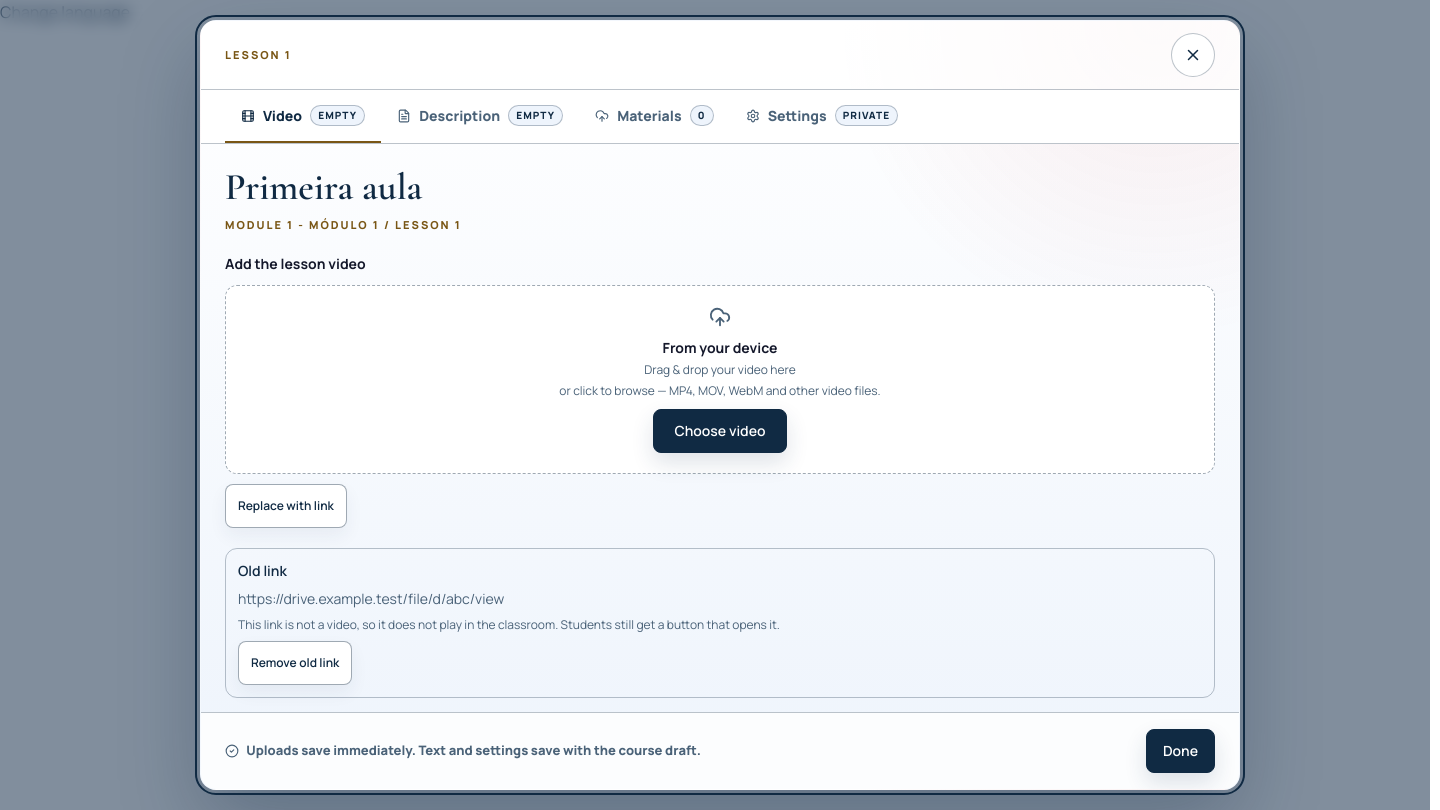
Test: LessonContentModal — um video por aula › link antigo que nao e video aparece so leitura como Old link
Check: the element "Old link" shows "https://drive.example.test/file/d/abc/view", box x1=238 y1=589 x2=504 y2=608
Click the button "Replace with link" at {"x": 286, "y": 506}, box x1=225 y1=484 x2=347 y2=528
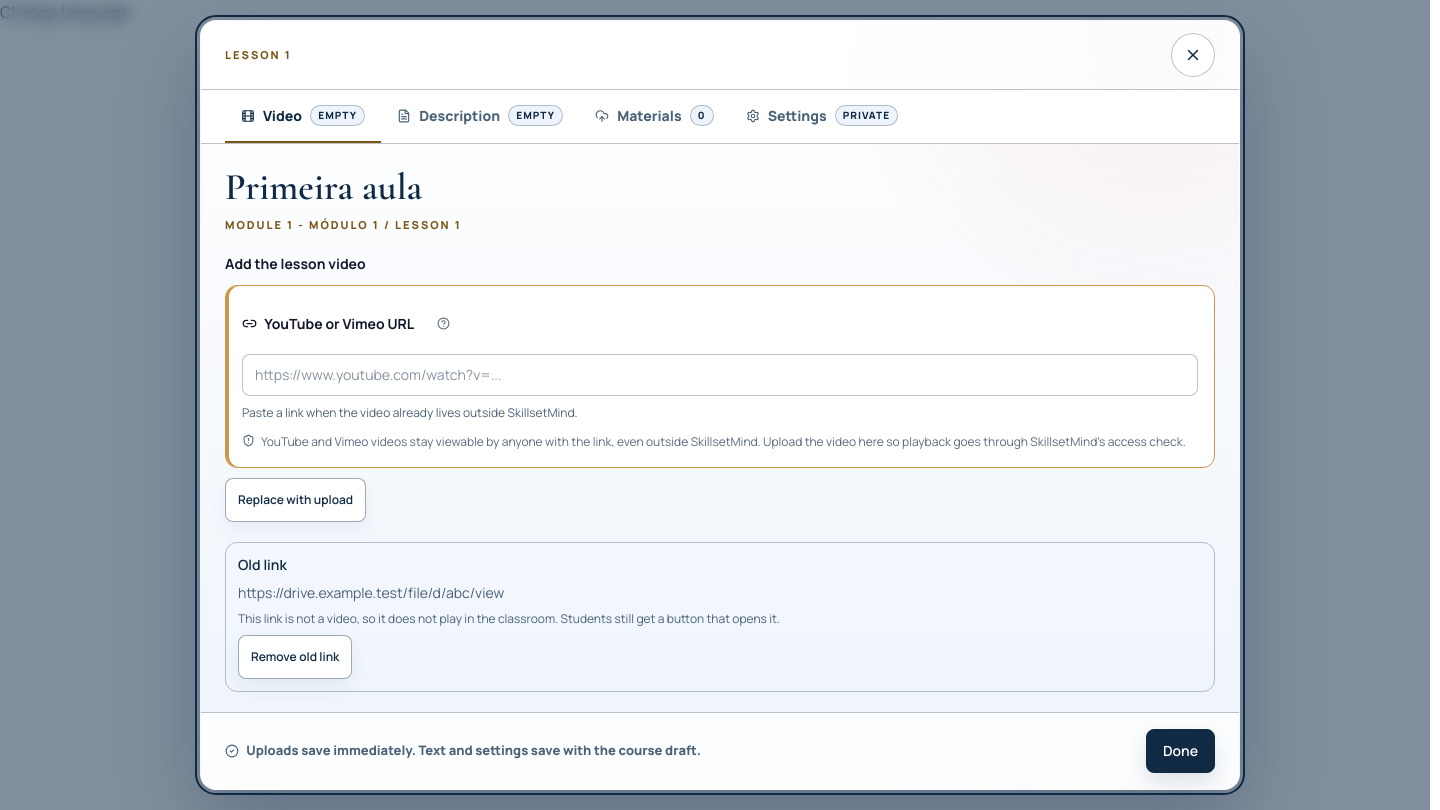
Check: the field labelled "YouTube or Vimeo URL" is empty
Type "abc" into the field labelled "YouTube or Vimeo URL" at {"x": 720, "y": 375}, box x1=242 y1=354 x2=1198 y2=396
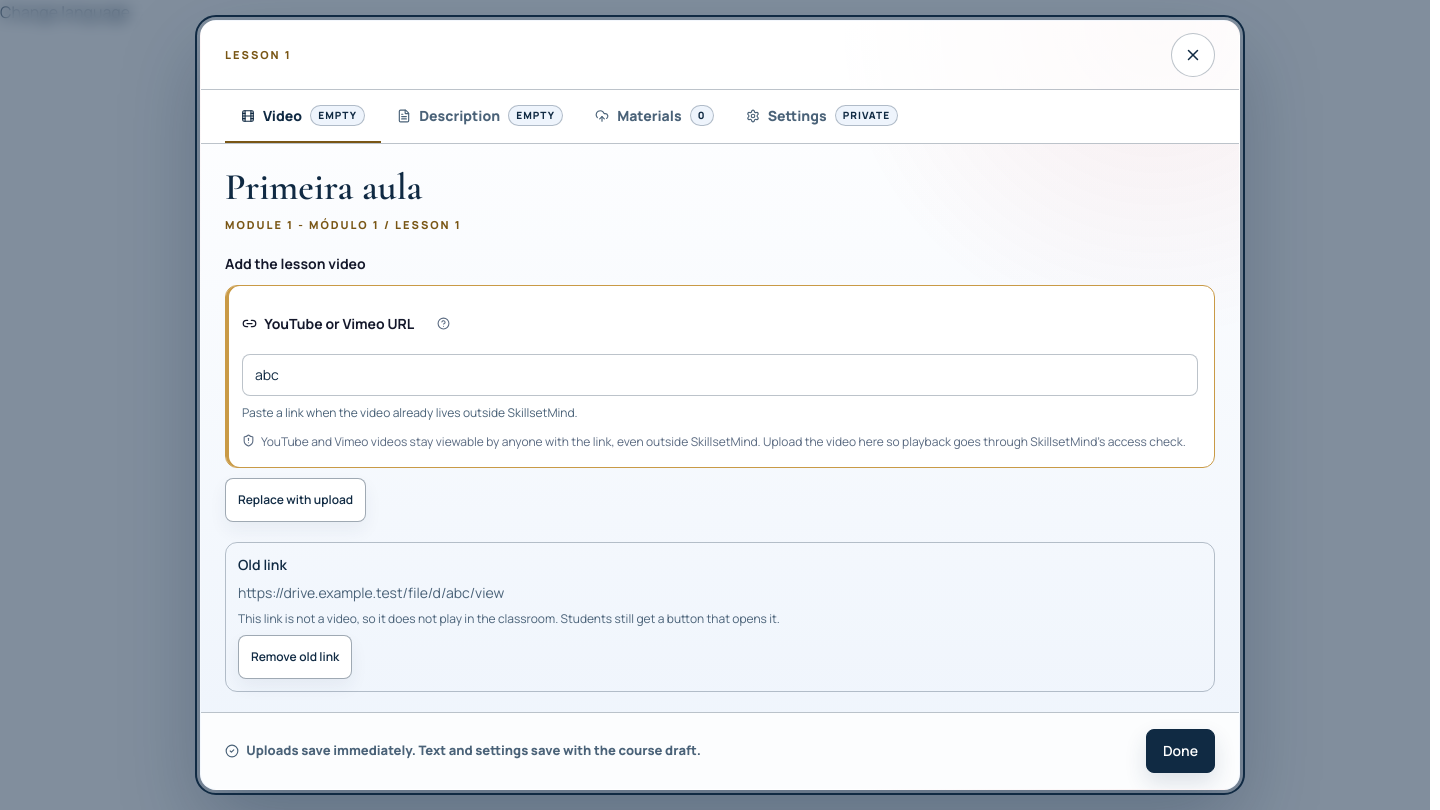
Clear the field labelled "YouTube or Vimeo URL" at {"x": 720, "y": 375}, box x1=242 y1=354 x2=1198 y2=396
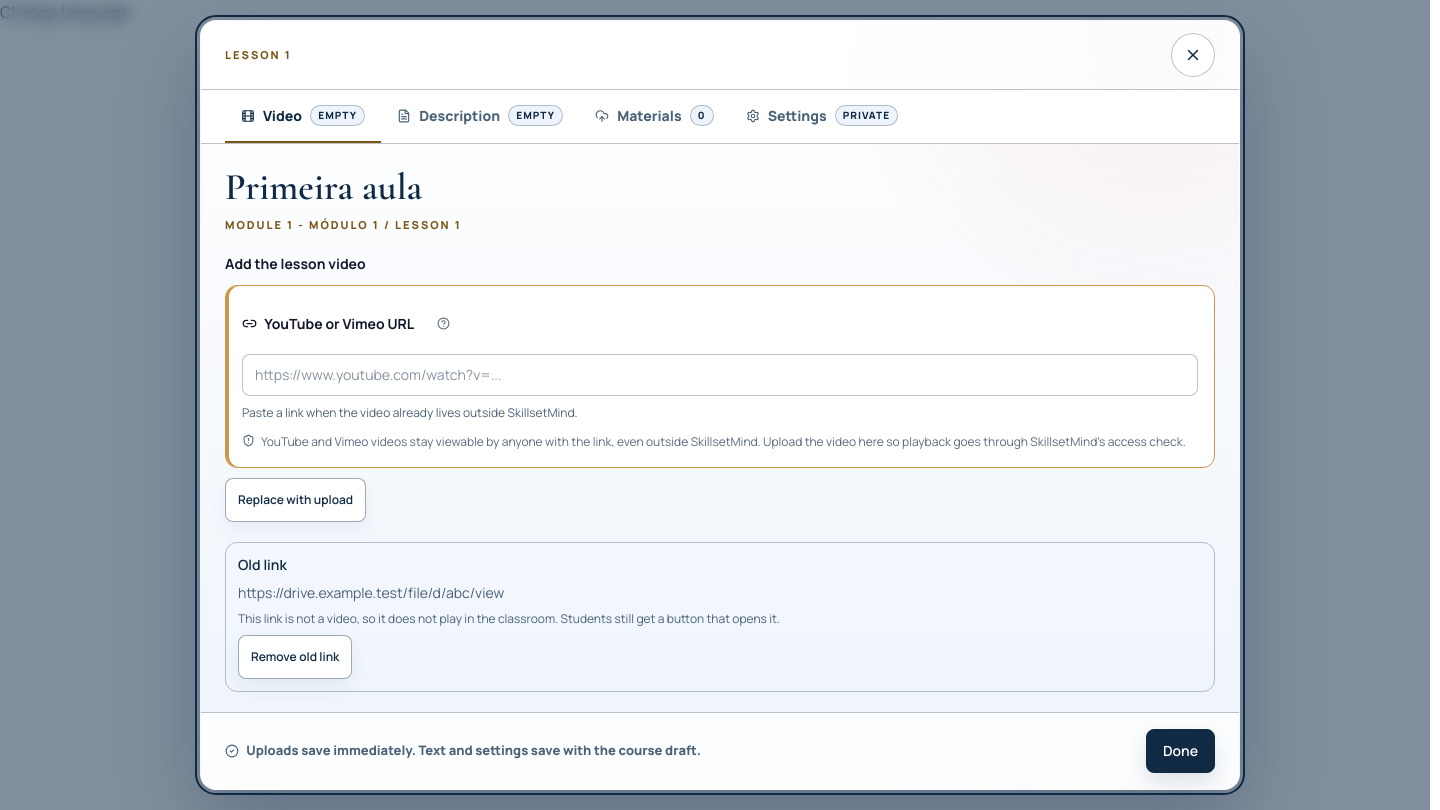
Click the button "Remove old link" at {"x": 295, "y": 657}, box x1=238 y1=635 x2=352 y2=679
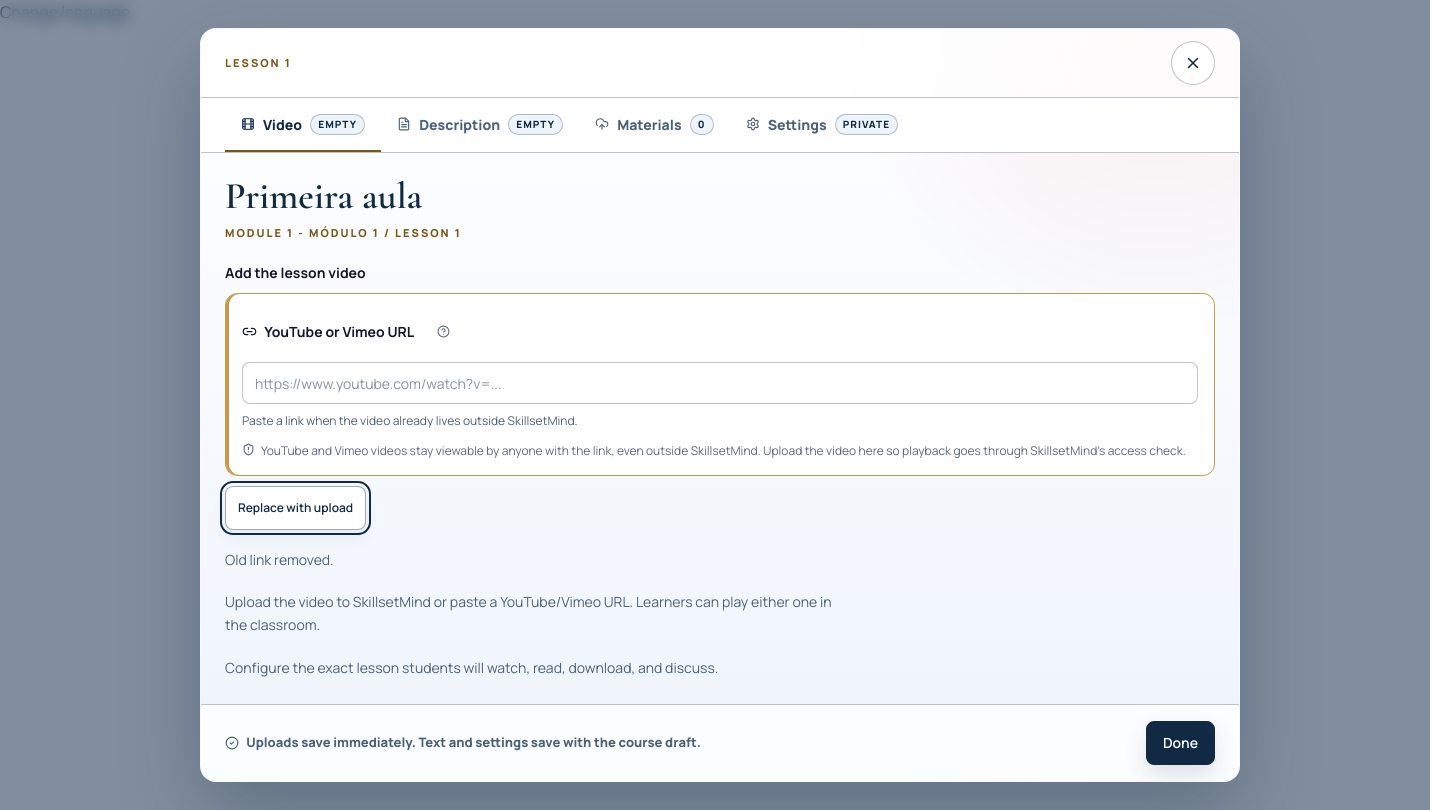
Check: the message reads "Old link removed.", box x1=225 y1=550 x2=334 y2=569
